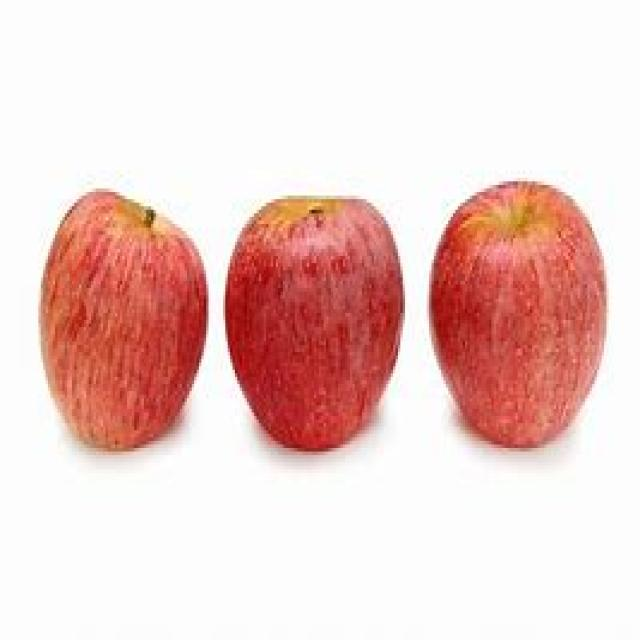apple: (428, 176, 609, 455), (222, 191, 408, 455), (38, 187, 209, 455)
